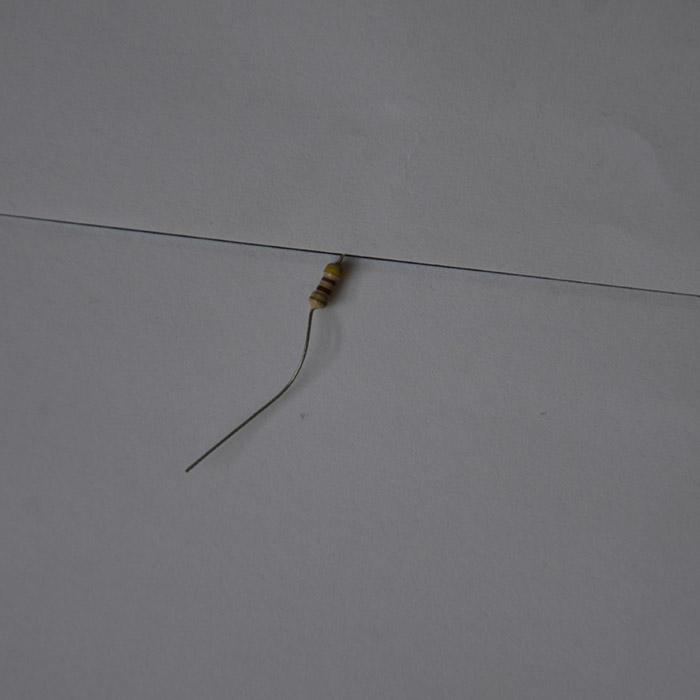resistor: (310, 256, 345, 311)
